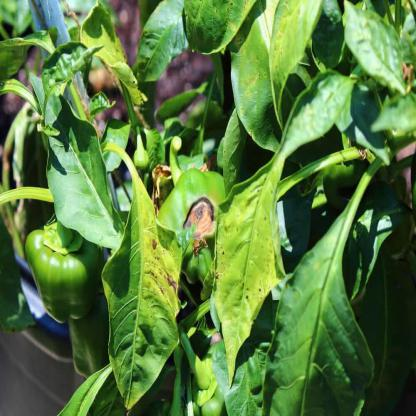Bell_pepper leaf: (42, 77, 126, 249)
